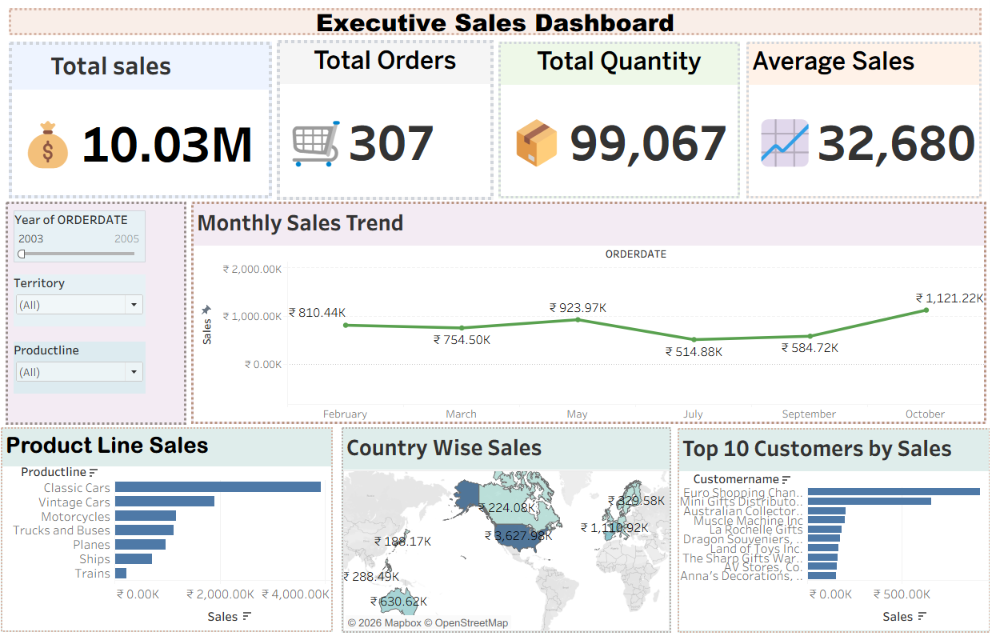

Layout of this report page (visuals, bound fields, positions):
{"tool":"tableau","page":{"name":"Dashboard 2 (3)","canvas":[1240,800],"ordinal":0},"visuals":[{"type":"title","box":[8,8,1224,42]},{"type":"worksheet","title":"KPI - Total Sales","mark":"Text","box":[8,50,337,204]},{"type":"worksheet","title":"KPI - Total Orders ","mark":"Text","box":[345,50,275,204]},{"type":"worksheet","title":"KPI - Total Quantity","mark":"Text","box":[620,50,310.1,204]},{"type":"worksheet","title":"KPI - Average Sales","mark":"Text","box":[930.1,50,301.9,204]},{"type":"worksheet","title":"Monthly Sales Trend","mark":"Line","rows":["SALES"],"cols":["ORDERDATE"],"box":[240,254,994,278]},{"type":"filter","title":"Monthly Sales Trend","param":"[federated.051ki7h109n9d31d91i7800codmr].[tyr:ORDERDATE:qk]","box":[18,265,165,65]},{"type":"filter","title":"Country Wise Sales","param":"[federated.051ki7h109n9d31d91i7800codmr].[none:TERRITORY:nk]","box":[18,345,165,65]},{"type":"filter","title":"Product Line Sales","param":"[federated.051ki7h109n9d31d91i7800codmr].[none:PRODUCTLINE:nk]","box":[18,429,165,65]},{"type":"worksheet","title":"Product Line Sales","mark":"Automatic","rows":["PRODUCTLINE"],"cols":["SALES"],"box":[2,536,415,256]},{"type":"worksheet","title":"Country Wise Sales","mark":"Automatic","box":[428,536,412,257]},{"type":"worksheet","title":"Top 10 Customers by Sales","mark":"Automatic","rows":["CUSTOMERNAME"],"cols":["SALES"],"box":[848.4,537,390.6,256]}]}

Visuals, with their boxes in screenshot pixels (x1, y1, x2, y2), scaled from the page's 1240x800 canvas onto the 990x633 screenshot:
title: (6, 6, 984, 40)
"KPI - Total Sales" worksheet (Text marks): (6, 40, 275, 201)
"KPI - Total Orders " worksheet (Text marks): (275, 40, 495, 201)
"KPI - Total Quantity" worksheet (Text marks): (495, 40, 743, 201)
"KPI - Average Sales" worksheet (Text marks): (743, 40, 984, 201)
"Monthly Sales Trend" worksheet (Line marks): (192, 201, 985, 421)
"Monthly Sales Trend" filter: (14, 210, 146, 261)
"Country Wise Sales" filter: (14, 273, 146, 324)
"Product Line Sales" filter: (14, 339, 146, 391)
"Product Line Sales" worksheet: (2, 424, 333, 627)
"Country Wise Sales" worksheet: (342, 424, 671, 627)
"Top 10 Customers by Sales" worksheet: (677, 425, 989, 627)
